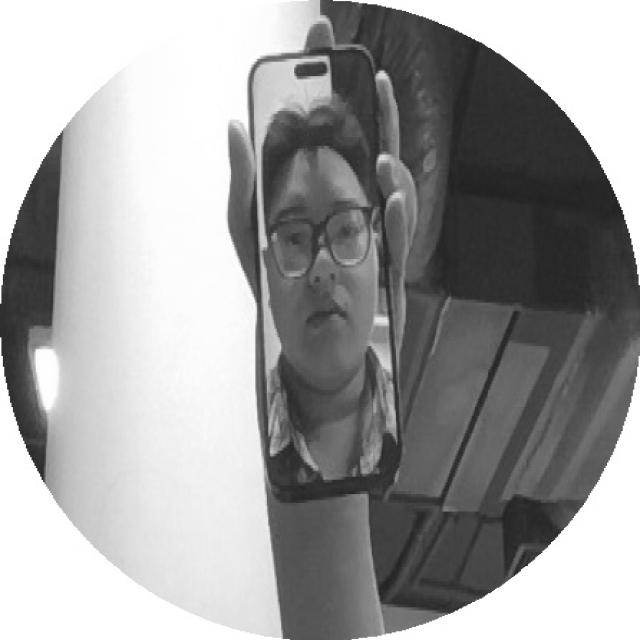fake: (210, 39, 436, 532), (237, 40, 410, 514)
